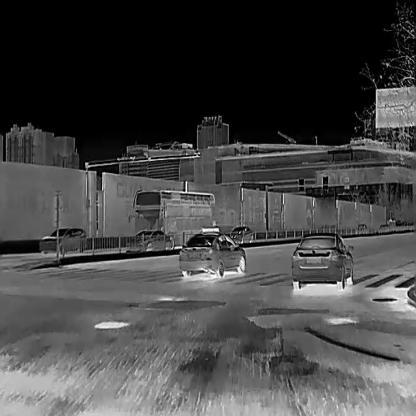car: (128, 189, 216, 250), (290, 232, 354, 289), (178, 224, 245, 276), (39, 226, 86, 253), (124, 227, 168, 250), (229, 224, 253, 242), (355, 222, 368, 232), (379, 223, 390, 231)
